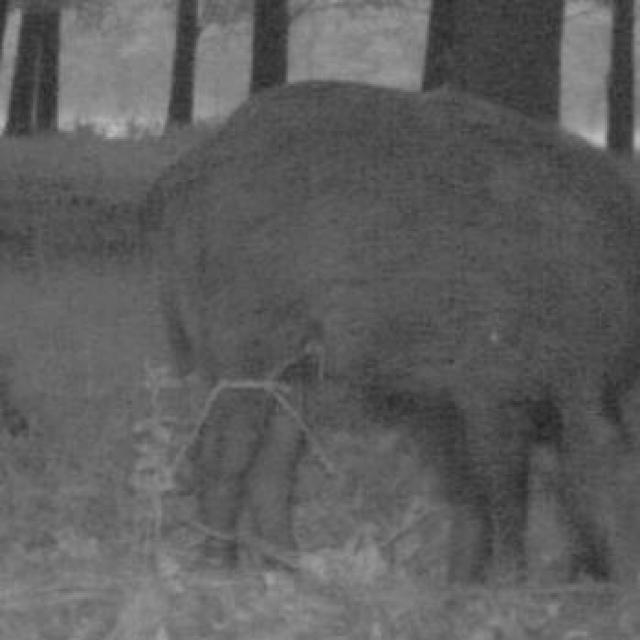pig: (155, 45, 640, 589)
